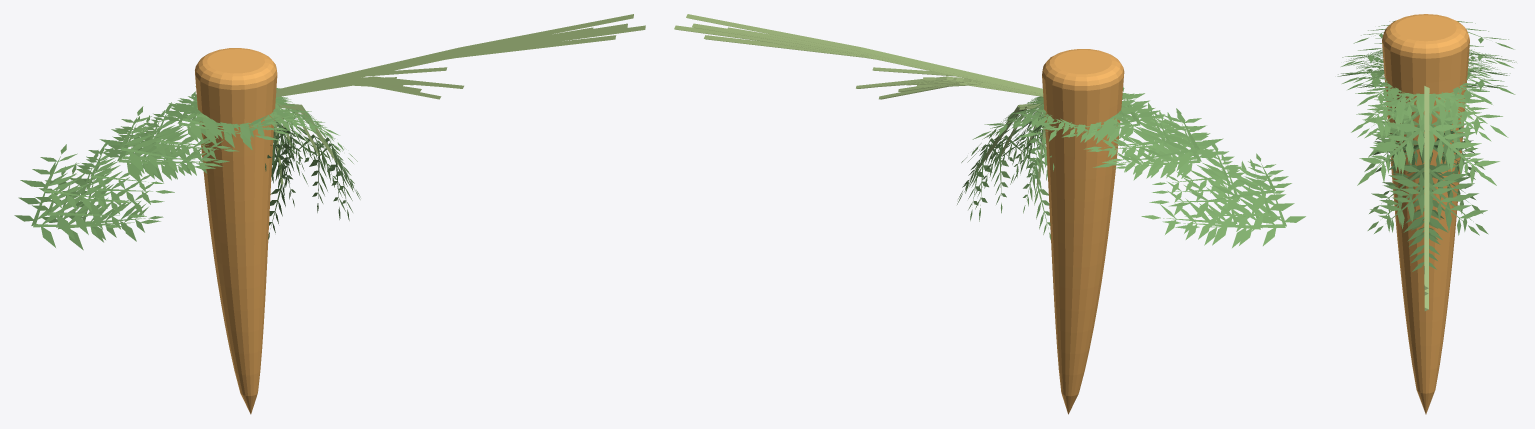
The model's file is carrot_harvest_v17.articulated.glb.
The picture shows the model from 3 angles, left to right: view 1: azimuth 30°, elevation 25°; view 2: azimuth 150°, elevation 25°; view 3: azimuth 270°, elevation 25°; orthographic projection. The views are drawn at different scales.
Visible parts, largest first — view 1: root, leaf06_link2, leaf02_link2, leaf04_link2, leaf01_link2, leaf05_link2, leaf04_link0, leaf00_link2, leaf03_link2, leaf07_link2, leaf02_link0, leaf01_link0 (+2 smaller); view 2: root, leaf06_link2, leaf02_link2, leaf04_link2, leaf05_link2, leaf01_link2, leaf00_link2, leaf02_link0, leaf07_link2, leaf03_link2, leaf01_link0; view 3: root, leaf04_link2, leaf06_link2, leaf01_link2, leaf02_link2, leaf05_link2, leaf00_link2, leaf02_link0, leaf03_link2, leaf07_link2.
Part boxes in pixels (x1,y1,x2,y2): root: (195, 48, 277, 414); leaf06_link2: (32, 91, 342, 238); leaf02_link2: (20, 96, 334, 210); leaf04_link2: (14, 86, 360, 247); leaf01_link2: (42, 96, 360, 250); leaf05_link2: (64, 94, 310, 242); leaf04_link0: (276, 25, 645, 95); leaf00_link2: (74, 102, 316, 208); leaf03_link2: (62, 108, 315, 221); leaf07_link2: (75, 104, 307, 191); leaf02_link0: (276, 14, 633, 89); leaf01_link0: (276, 35, 616, 95); root: (1042, 49, 1124, 414); leaf06_link2: (977, 87, 1294, 231); leaf02_link2: (995, 96, 1291, 215); leaf04_link2: (957, 93, 1305, 247); leaf05_link2: (1011, 93, 1249, 245); leaf01_link2: (958, 93, 1280, 245); leaf00_link2: (1009, 104, 1246, 203); leaf02_link0: (686, 14, 1042, 93); leaf07_link2: (1016, 105, 1239, 193); leaf03_link2: (1021, 98, 1259, 219); leaf01_link0: (704, 35, 1042, 94); root: (1382, 14, 1469, 414); leaf04_link2: (1347, 50, 1516, 269); leaf06_link2: (1342, 51, 1496, 239); leaf01_link2: (1337, 59, 1510, 277); leaf02_link2: (1341, 20, 1514, 157); leaf05_link2: (1355, 70, 1507, 234); leaf00_link2: (1353, 56, 1492, 191); leaf02_link0: (1424, 86, 1429, 289); leaf03_link2: (1356, 62, 1497, 174); leaf07_link2: (1366, 49, 1488, 139).
Size of the model in its own units: 0.3163 by 0.1761 by 0.078.
1 material, 1 textured.
